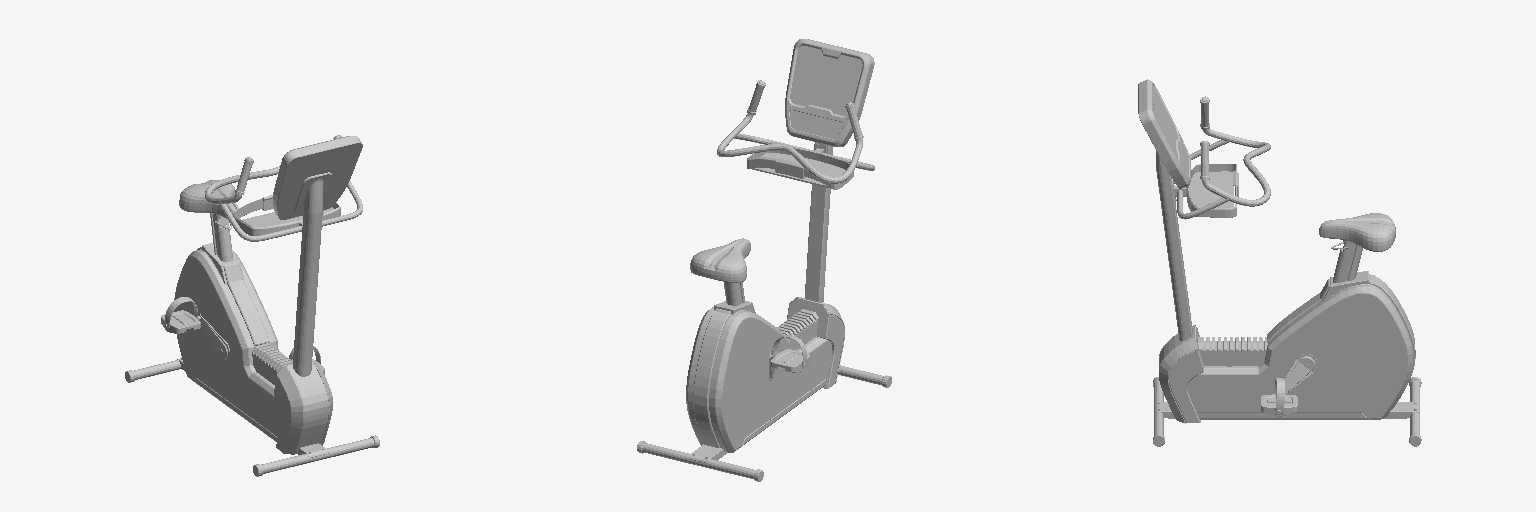
The model's file is bike1_UV1.OBJ.
The picture shows the model from 3 angles: view 1: azimuth 30°, elevation 25°; view 2: azimuth 150°, elevation 25°; view 3: azimuth 270°, elevation 25°; orthographic projection.
Parts seen in each view (by area): view 1: UnrealEdObject; view 2: UnrealEdObject; view 3: UnrealEdObject.
Part boxes in pixels (bbox=[...]): UnrealEdObject: bbox=[125, 135, 379, 476]; UnrealEdObject: bbox=[637, 39, 891, 481]; UnrealEdObject: bbox=[1138, 79, 1421, 446].
Bounding box in the file's own units: 60.32 × 144 × 115.